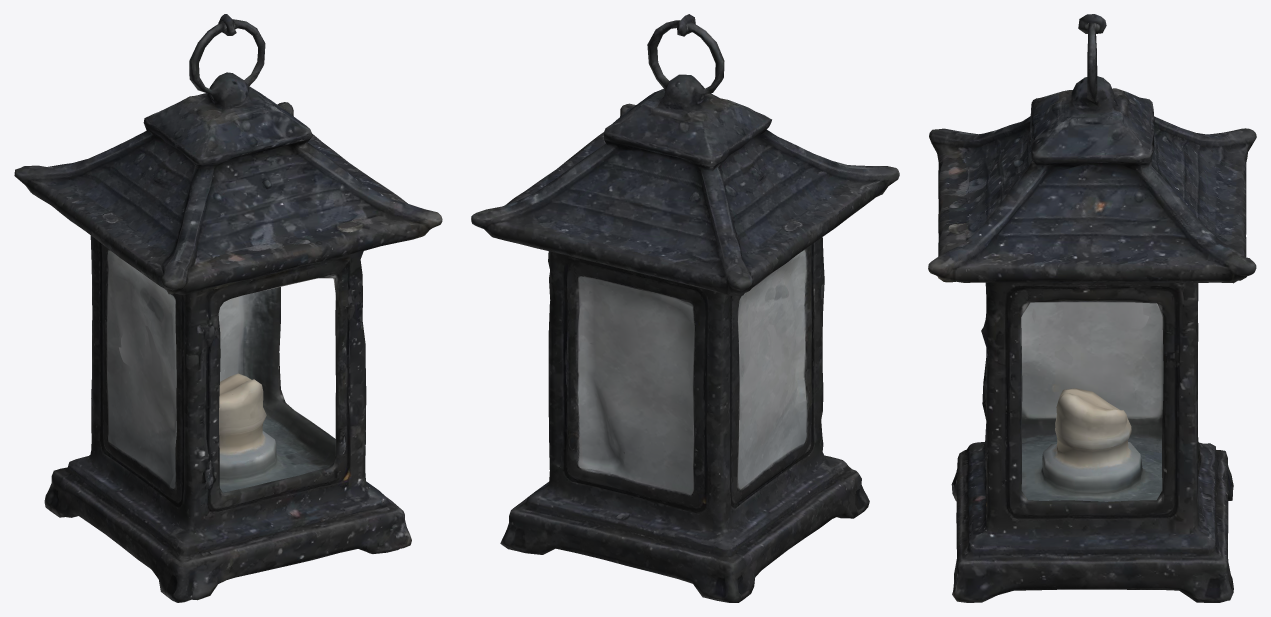
The model's file is gate_lantern_tripo.glb.
3 views of the same model, side by side, from view 1: azimuth 30°, elevation 25°; view 2: azimuth 150°, elevation 25°; view 3: azimuth 270°, elevation 25° (orthographic). The views are drawn at different scales.
Parts seen in each view (by area): view 1: old iron lantern 3d model; view 2: old iron lantern 3d model; view 3: old iron lantern 3d model.
Boxes of the visible parts, x1=… form: old iron lantern 3d model: x1=14, y1=14, x2=442, y2=602; old iron lantern 3d model: x1=471, y1=14, x2=899, y2=602; old iron lantern 3d model: x1=928, y1=14, x2=1256, y2=602.
Size of the model in its own units: 0.5533 by 0.9774 by 0.5487.
Materials: 1 (1 with a texture image).
